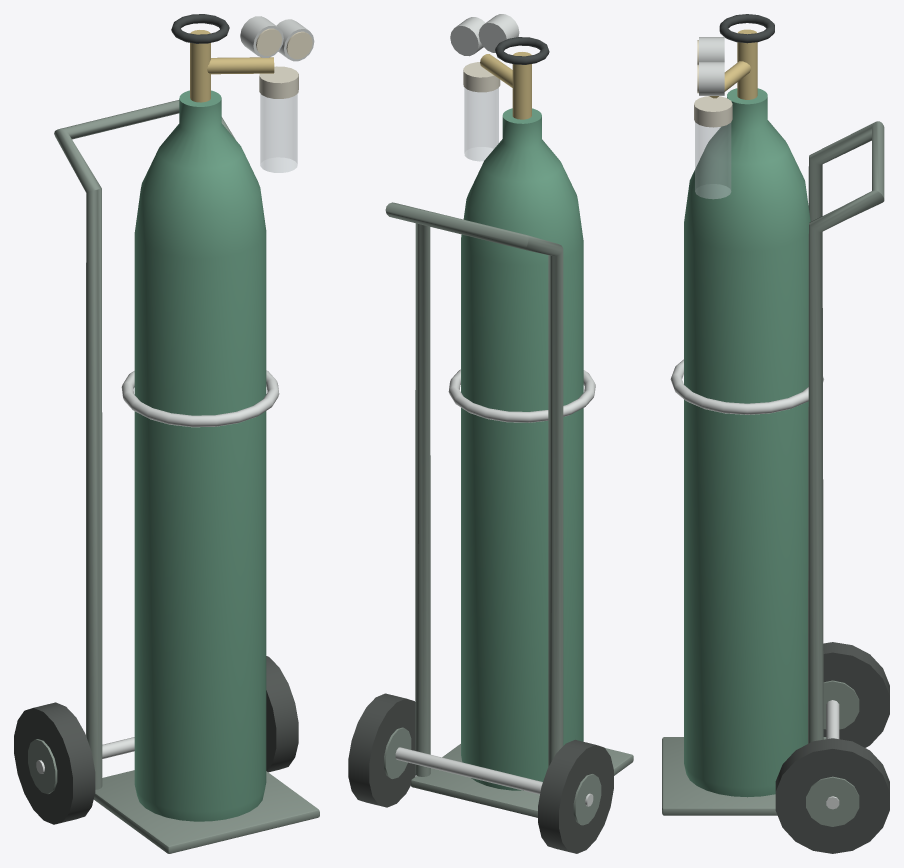
The model's file is CTCC_PROP_OxygenCylinderCart.fbx.
The picture shows the model from 3 angles, left to right: view 1: azimuth 30°, elevation 25°; view 2: azimuth 150°, elevation 25°; view 3: azimuth 270°, elevation 25°; orthographic projection. The views are drawn at different scales.
Parts seen in each view (by area): view 1: CTCC_PROP_OxygenCylinderCart_LOD0; view 2: CTCC_PROP_OxygenCylinderCart_LOD0; view 3: CTCC_PROP_OxygenCylinderCart_LOD0.
Boxes of the visible parts, box(x1,y1,x2,y2) form: CTCC_PROP_OxygenCylinderCart_LOD0: box(14, 14, 319, 853); CTCC_PROP_OxygenCylinderCart_LOD0: box(348, 14, 633, 853); CTCC_PROP_OxygenCylinderCart_LOD0: box(662, 14, 889, 853).
Size of what is drawn, in the model's own units: 0.46 by 1.52 by 0.4005.
